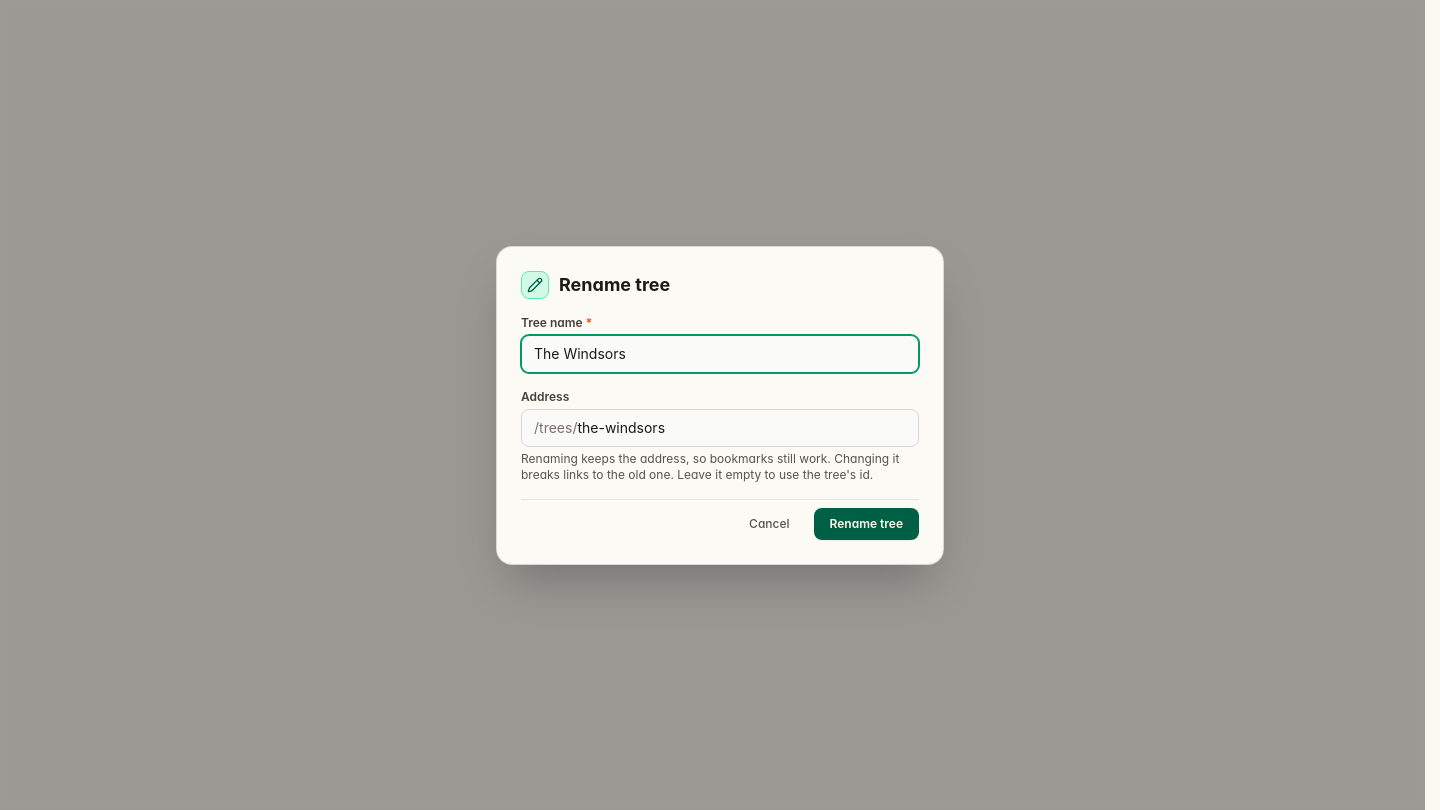
Test: RenameTreeModal › refuses an address the server would refuse, and says why
Type "House Of Windsor" into the field with id "tree-slug-input" at coordinates (748, 428), box 577,410 -> 918,446
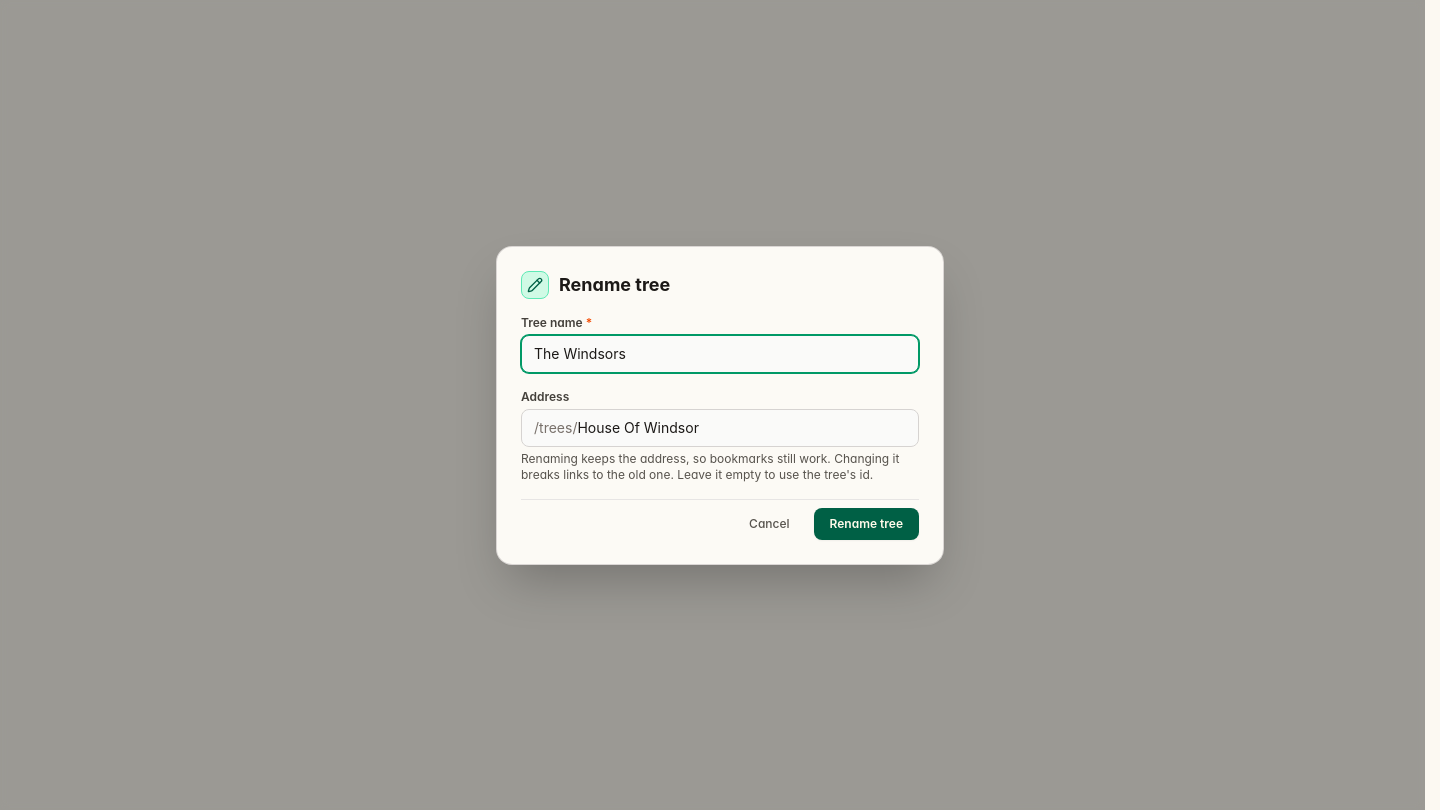
Submit the form, box 521,314 -> 919,540
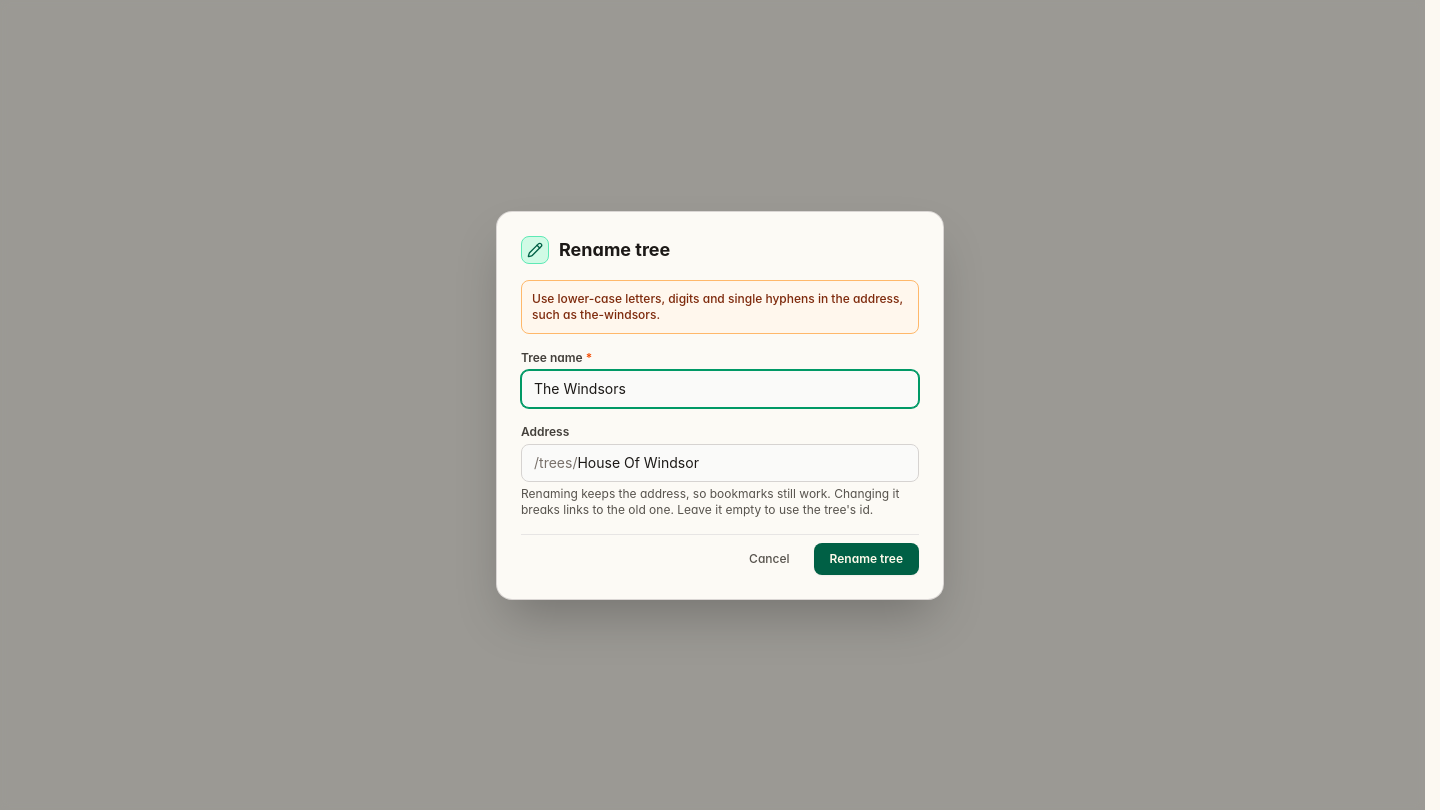
Check: the text "lower-case letters" is shown, box 532,290 -> 903,322
